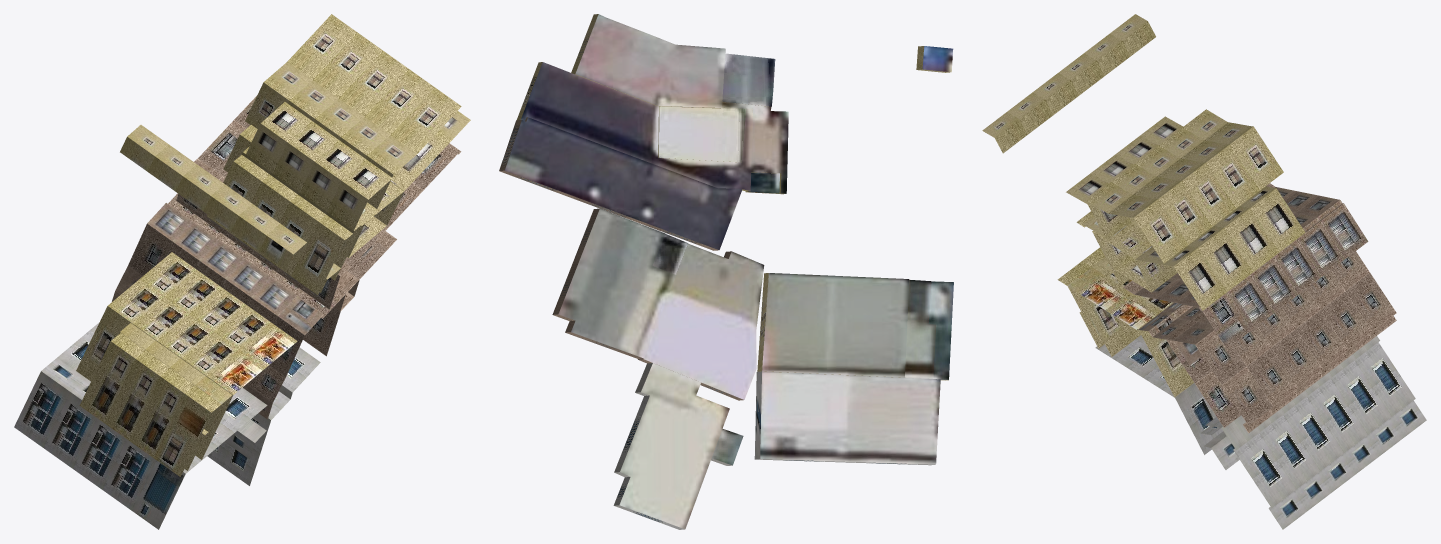
3 renders of one model, left to right at view 1: azimuth 30°, elevation 25°; view 2: azimuth 150°, elevation 25°; view 3: azimuth 270°, elevation 25°, orthographic. The views are drawn at different scales.
Bounding box in the file's own units: 47.75 × 49.39 × 45.71.
61 materials, 61 textured.
